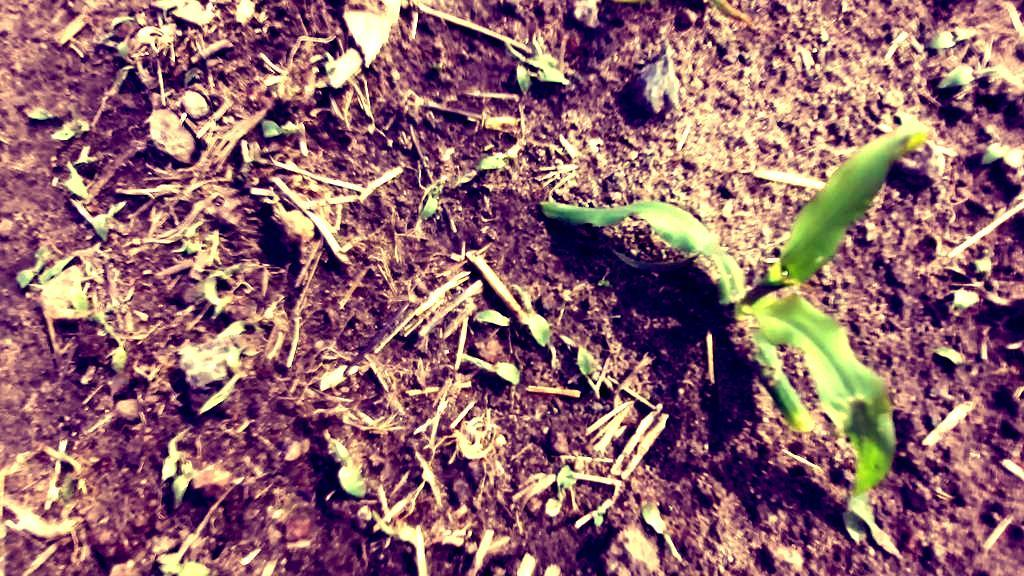BroWeed: (831, 489, 904, 576), (22, 424, 96, 503), (196, 338, 261, 426), (309, 425, 374, 505), (502, 277, 558, 350), (636, 495, 683, 568), (35, 237, 104, 285), (930, 51, 1001, 96), (196, 250, 244, 306), (538, 462, 583, 520), (568, 340, 611, 400), (951, 249, 1000, 301), (158, 421, 197, 486), (458, 349, 525, 386), (161, 454, 202, 512), (53, 160, 97, 209), (62, 267, 106, 315), (87, 190, 127, 242), (498, 40, 554, 75), (366, 510, 420, 545), (414, 177, 454, 222), (89, 7, 135, 46), (521, 32, 561, 75), (212, 311, 265, 343), (941, 280, 983, 319), (11, 251, 50, 290), (975, 133, 1018, 168), (102, 59, 136, 102), (24, 98, 73, 126), (205, 287, 237, 326), (186, 77, 221, 112), (181, 209, 216, 243), (931, 339, 968, 370), (172, 294, 209, 324), (65, 99, 95, 135), (68, 140, 105, 169), (923, 30, 974, 50), (243, 138, 273, 172), (472, 306, 516, 329), (51, 120, 85, 149), (259, 117, 299, 139), (527, 66, 571, 86), (86, 310, 115, 340), (318, 43, 341, 80), (942, 263, 980, 285), (236, 139, 255, 183), (474, 152, 515, 172), (116, 19, 135, 61), (158, 561, 210, 576), (177, 63, 206, 88), (110, 333, 128, 373), (449, 168, 480, 189), (931, 373, 953, 402), (311, 72, 337, 96), (516, 60, 532, 98), (47, 308, 92, 321), (103, 298, 122, 328), (906, 31, 928, 54), (79, 252, 99, 277), (168, 240, 200, 255), (892, 106, 914, 126), (592, 504, 609, 529), (155, 550, 181, 565), (992, 338, 1024, 350), (24, 281, 44, 299), (992, 200, 1007, 222), (426, 59, 444, 76), (34, 247, 55, 260), (248, 320, 265, 336), (820, 25, 829, 43), (49, 154, 58, 168), (985, 203, 995, 215), (597, 280, 610, 287), (954, 25, 963, 34)
Maize: (533, 120, 982, 537)
